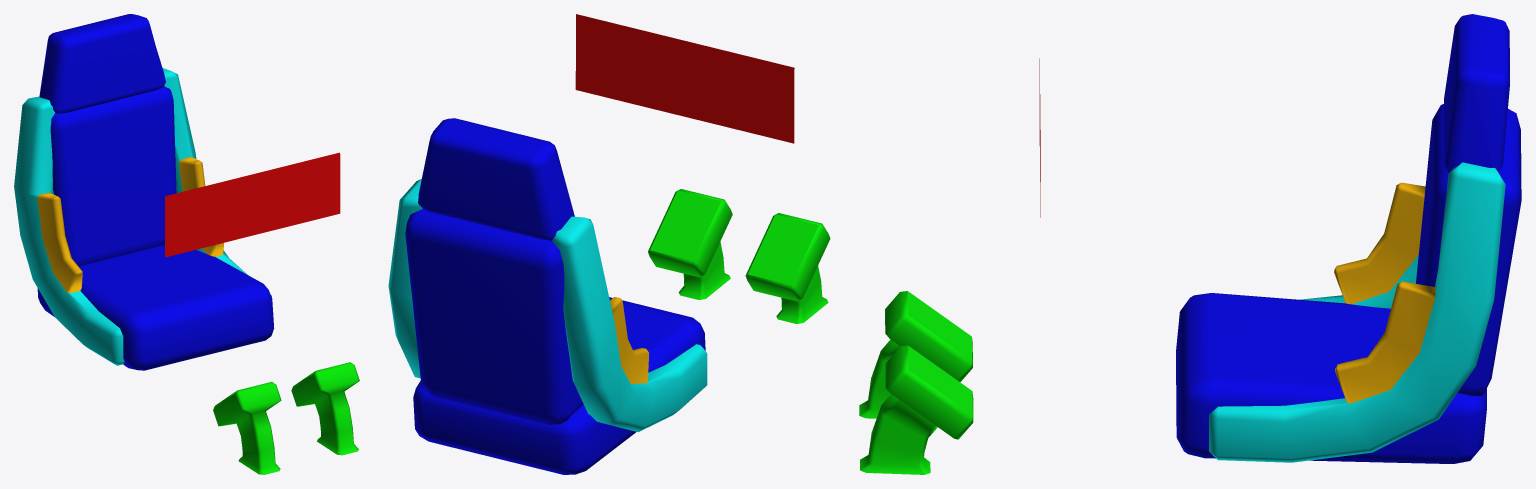
Rendered from VehicleInsideParts.fbx.
The picture shows the model from 3 angles, left to right: view 1: azimuth 30°, elevation 25°; view 2: azimuth 150°, elevation 25°; view 3: azimuth 270°, elevation 25°; orthographic projection. The views are drawn at different scales.
Visible parts, largest first — view 1: Vehicle_Parts; view 2: Vehicle_Parts; view 3: Vehicle_Parts.
Part boxes in pixels (<box>): Vehicle_Parts: <box>14,14,359,474</box>; Vehicle_Parts: <box>388,14,830,474</box>; Vehicle_Parts: <box>859,14,1521,474</box>.
Bounding box in the file's own units: 96.21 × 147 × 219.
